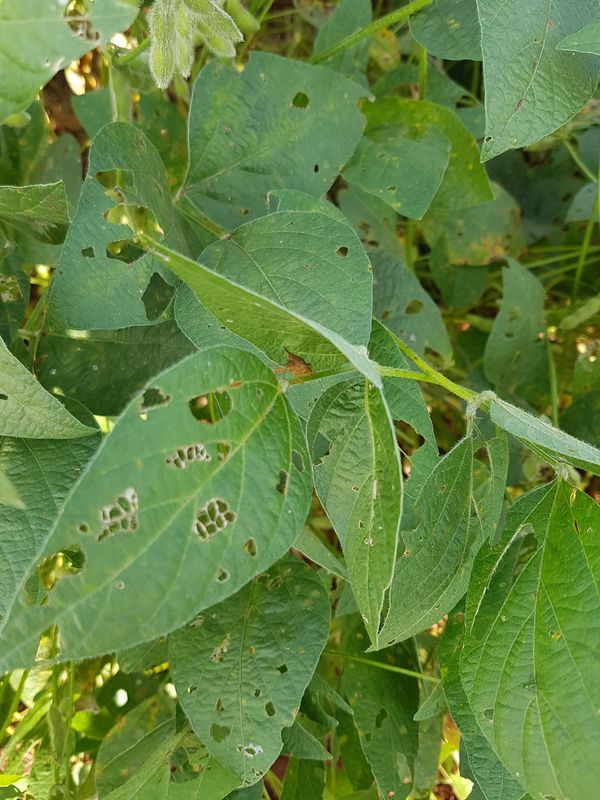Euschistus_heros_adulto: (274, 342, 323, 382)
